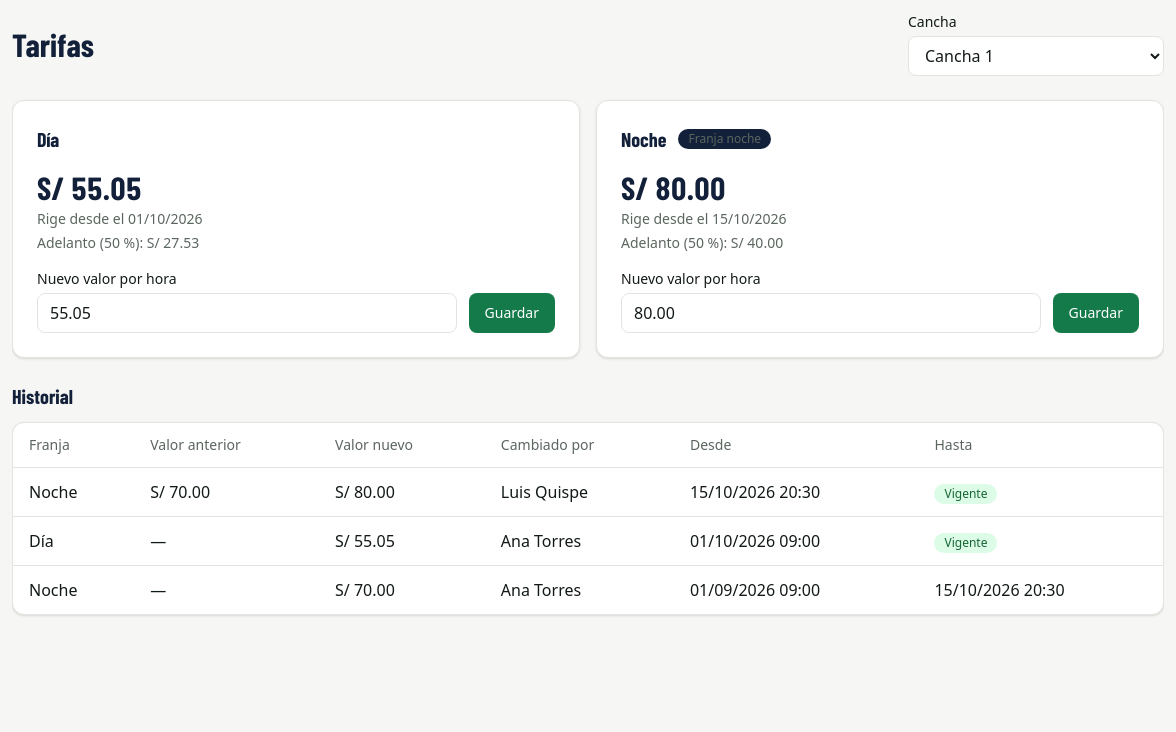
Test case: Pantalla de tarifas › con un error visible, corregir el valor lo quita sin salir del campo
Replace the text in the field labelled "Nuevo valor por hora" below "S/ 27.53" with "0" at (247, 313), box [37,293,456,333]
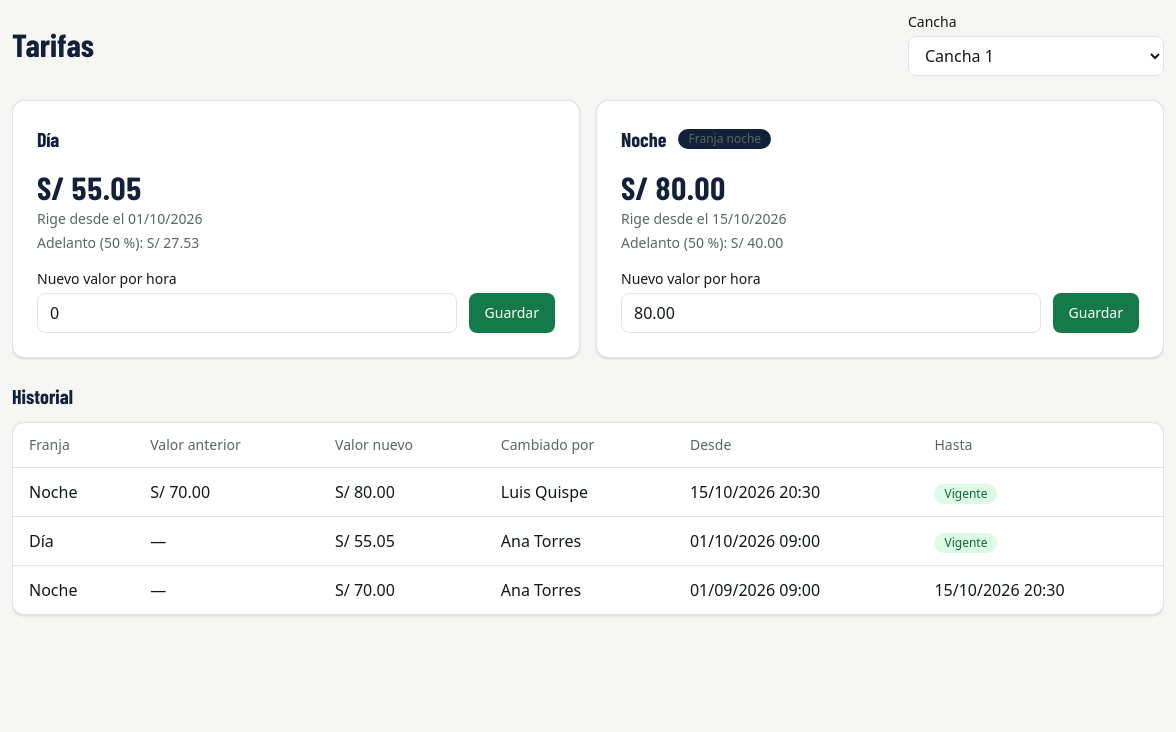
Click the 1st button "Guardar" at (512, 313), box [468,293,555,333]
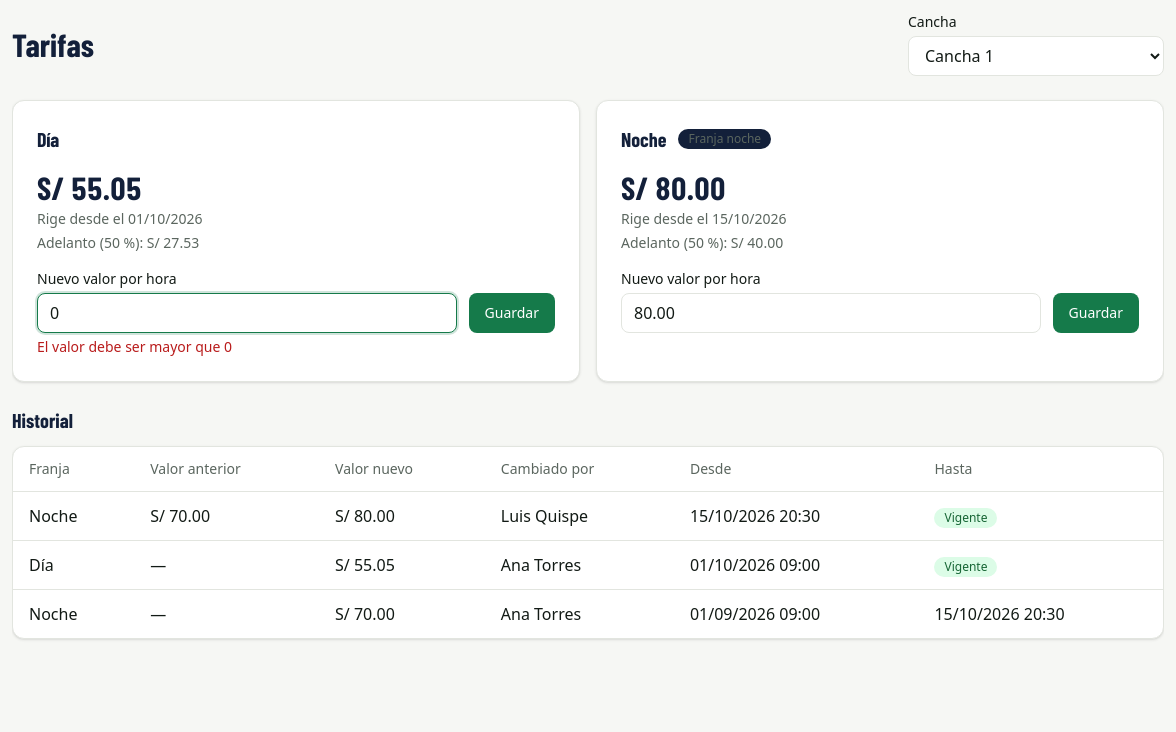
Now the text "El valor debe ser mayor que 0" is shown, box [37,337,232,356]
Replace the text in the field labelled "Nuevo valor por hora" below "S/ 27.53" with "60" at (247, 313), box [37,293,456,333]
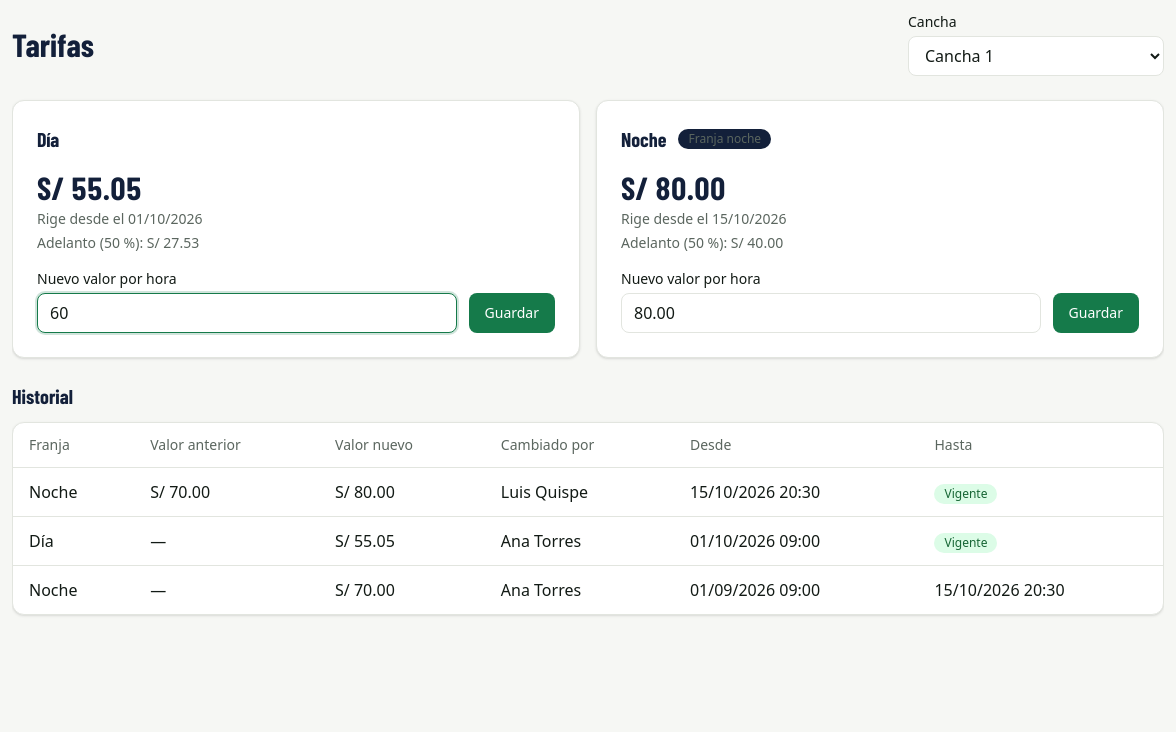
Now the text "El valor debe ser mayor que 0" is gone
